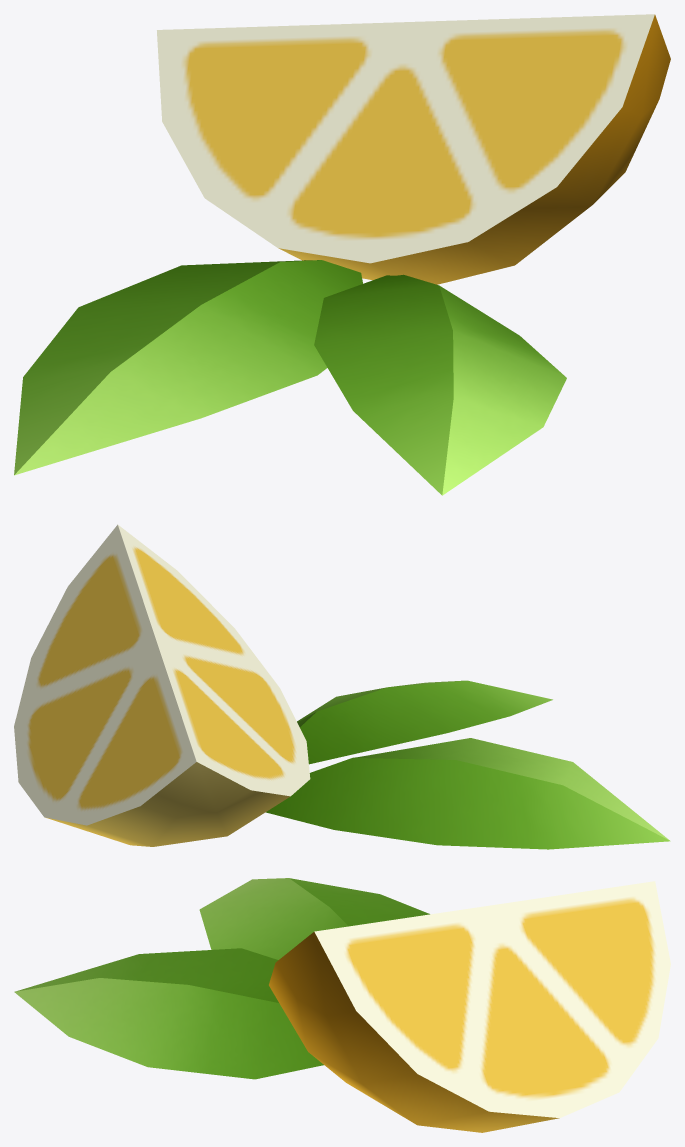
The model's file is m_CheeseCake05_Deco.fbx.
3 renders of one model, top to bottom at view 1: azimuth 30°, elevation 25°; view 2: azimuth 150°, elevation 25°; view 3: azimuth 270°, elevation 25°, orthographic. The views are drawn at different scales.
Visible parts, largest first — view 1: m_CheeseCake05_Deco; view 2: m_CheeseCake05_Deco; view 3: m_CheeseCake05_Deco.
Part boxes in pixels (x1,y1,x2,y2): m_CheeseCake05_Deco: (14, 14, 670, 495); m_CheeseCake05_Deco: (14, 524, 670, 849); m_CheeseCake05_Deco: (14, 878, 670, 1132).
Size of the model in its own units: 12.92 by 4.71 by 11.73.
